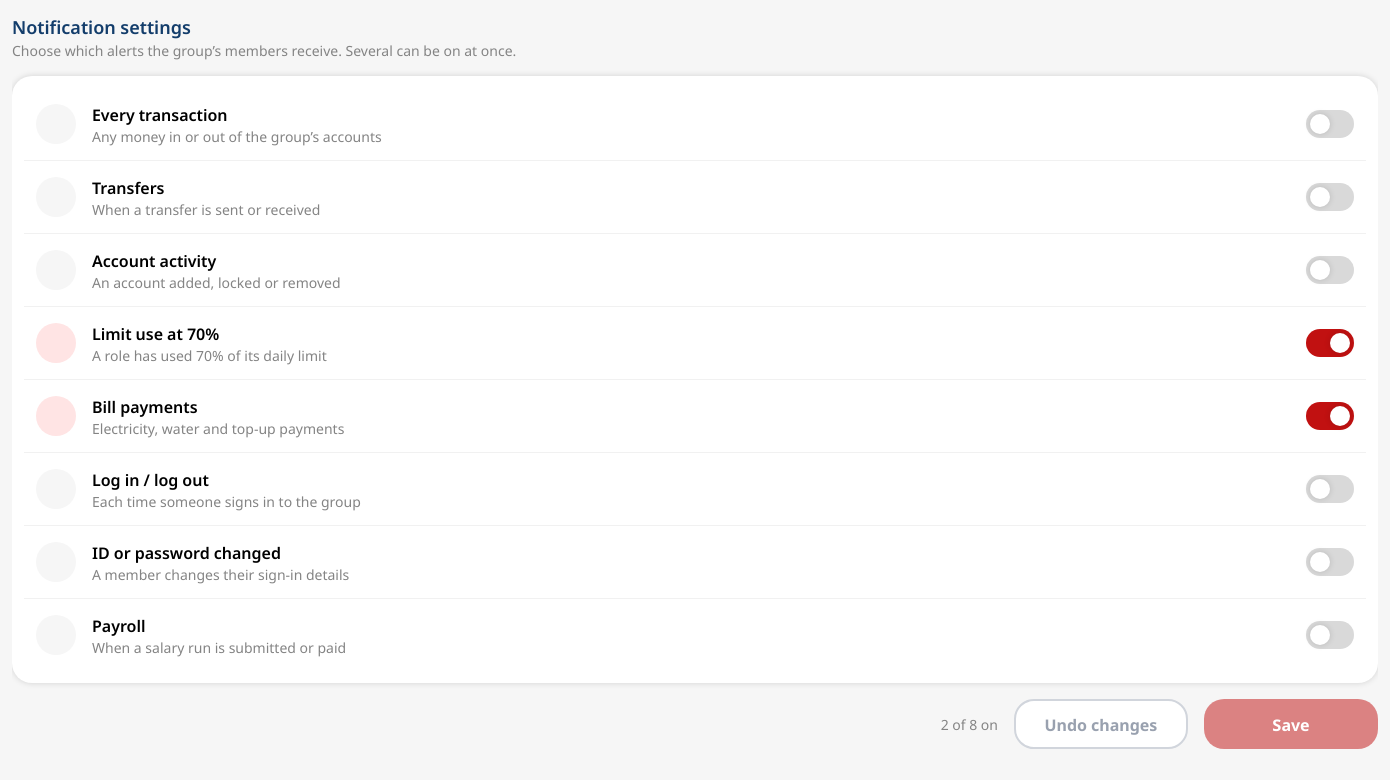
Test case: notification settings › saves only once something changed, and sends the choices by id
Expected: the button "Save" is disabled, [1204,699,1378,749]
Click the switch labelled "Payroll When a salary run is submitted or paid".
click(56, 635)  # box [24,599,1366,671]
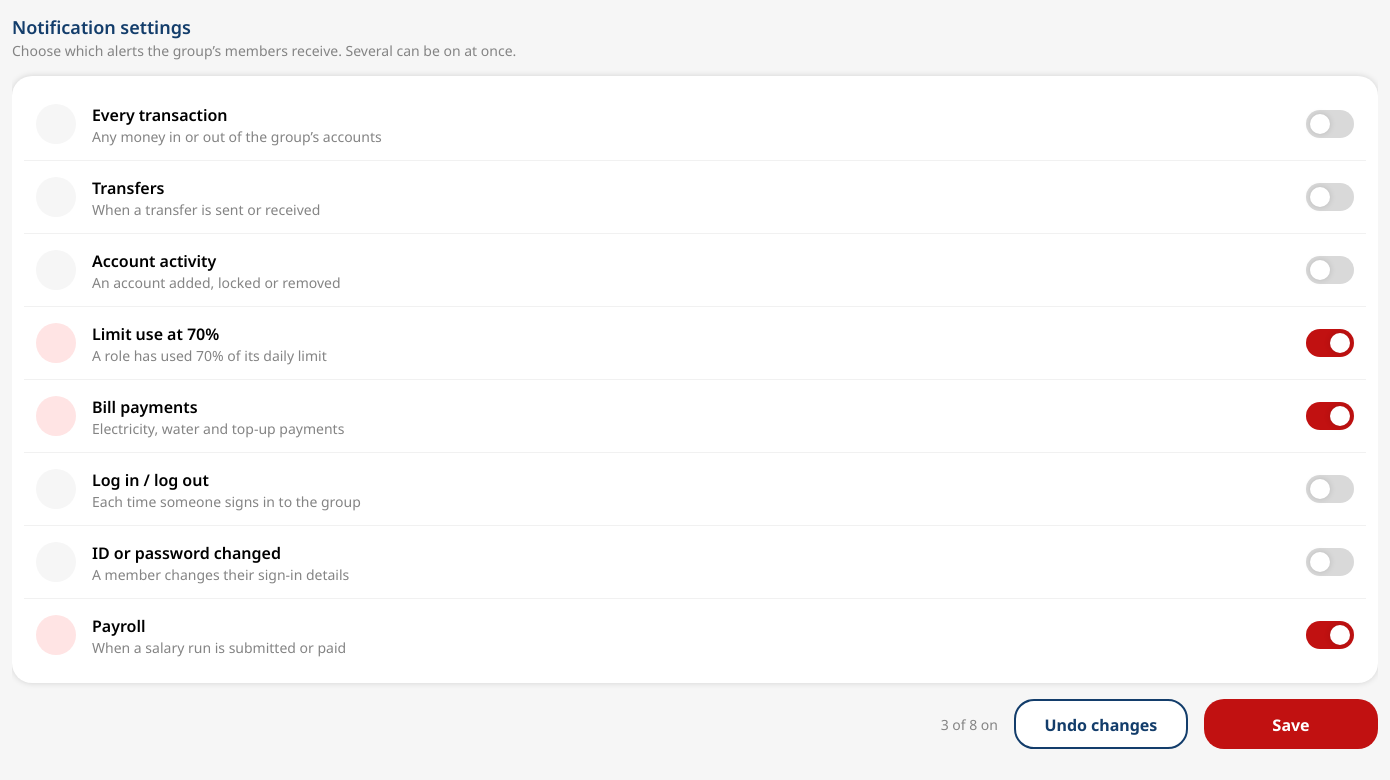
Expected: the button "Save" is enabled
Click the button "Save".
click(1291, 724)  # box [1204,699,1378,749]
(page scrolled)
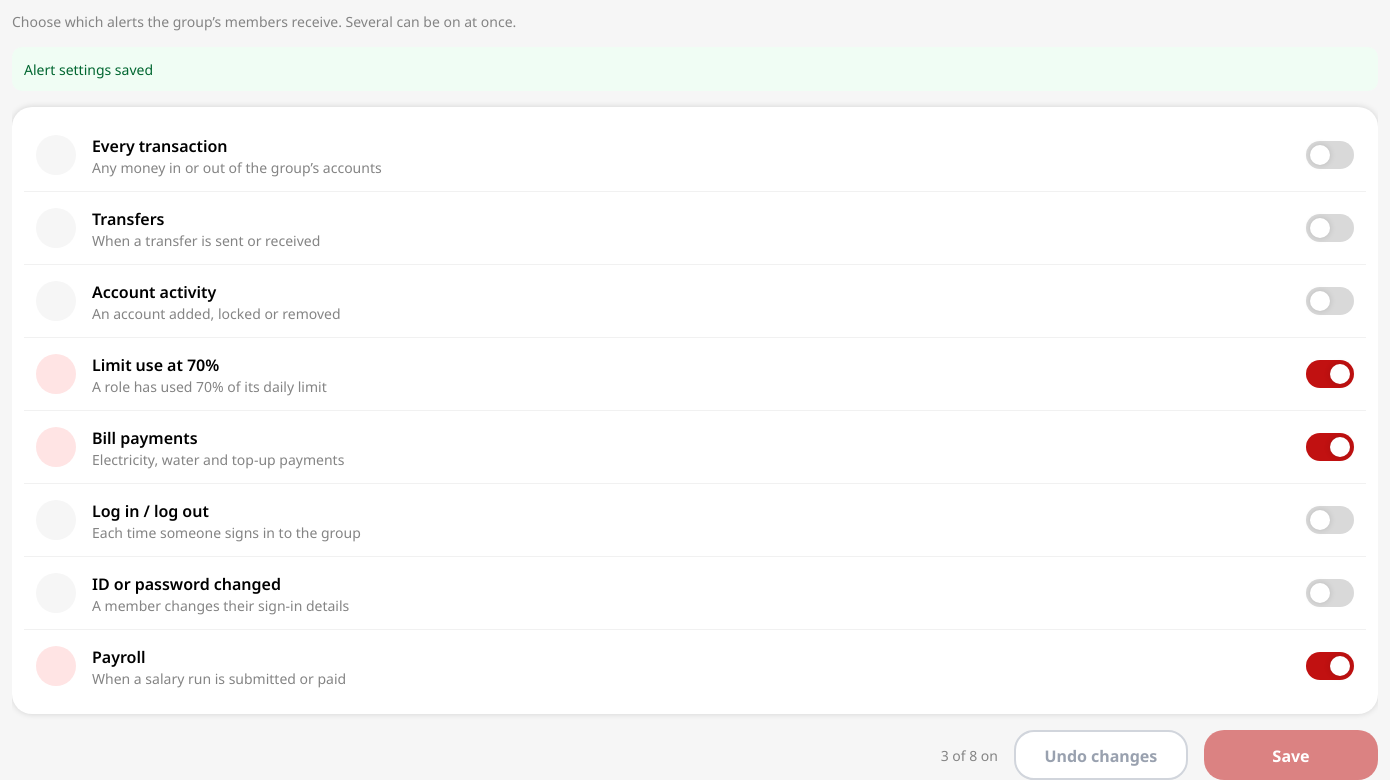
Expected: the text "Alert settings saved" is shown, [12,47,1378,91]
Expected: the button "Save" is disabled, [1204,730,1378,779]
